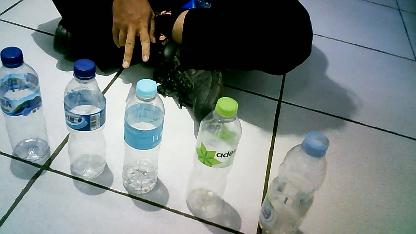Plastic Bottle: (183, 75, 244, 225), (252, 126, 336, 234), (62, 49, 116, 191), (1, 44, 52, 176), (120, 76, 170, 201)
